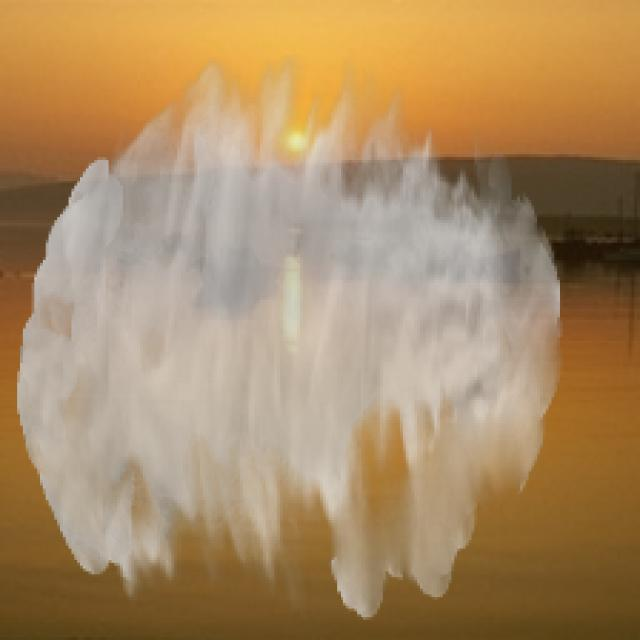smoke: (17, 54, 563, 620)
